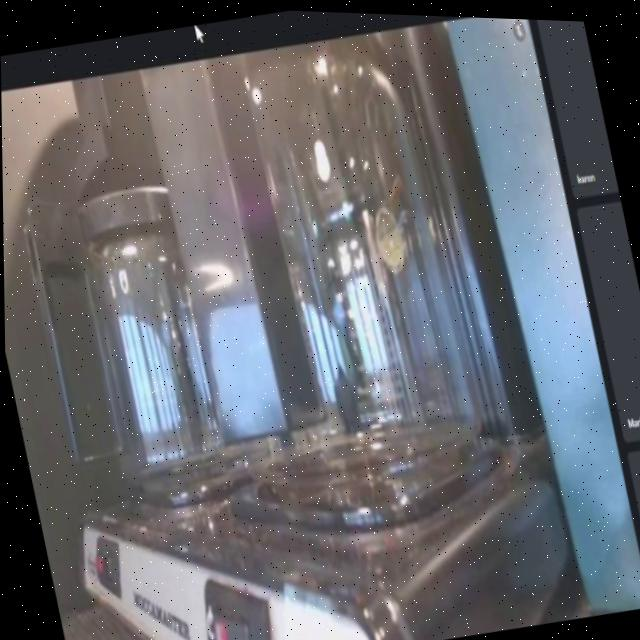nocoffee: (138, 13, 524, 551), (48, 166, 256, 501)
